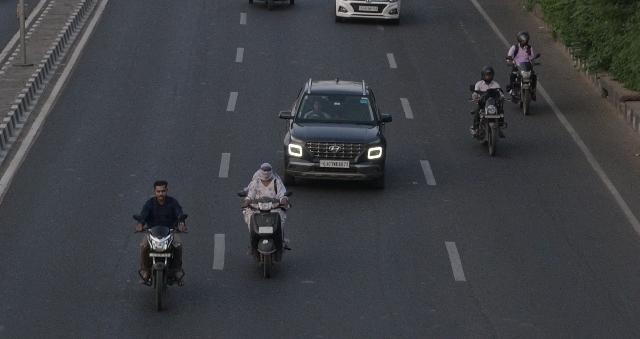With Helmet: (479, 66, 496, 86), (514, 29, 530, 47)
Without Helmet: (150, 178, 172, 200), (257, 161, 275, 179)
